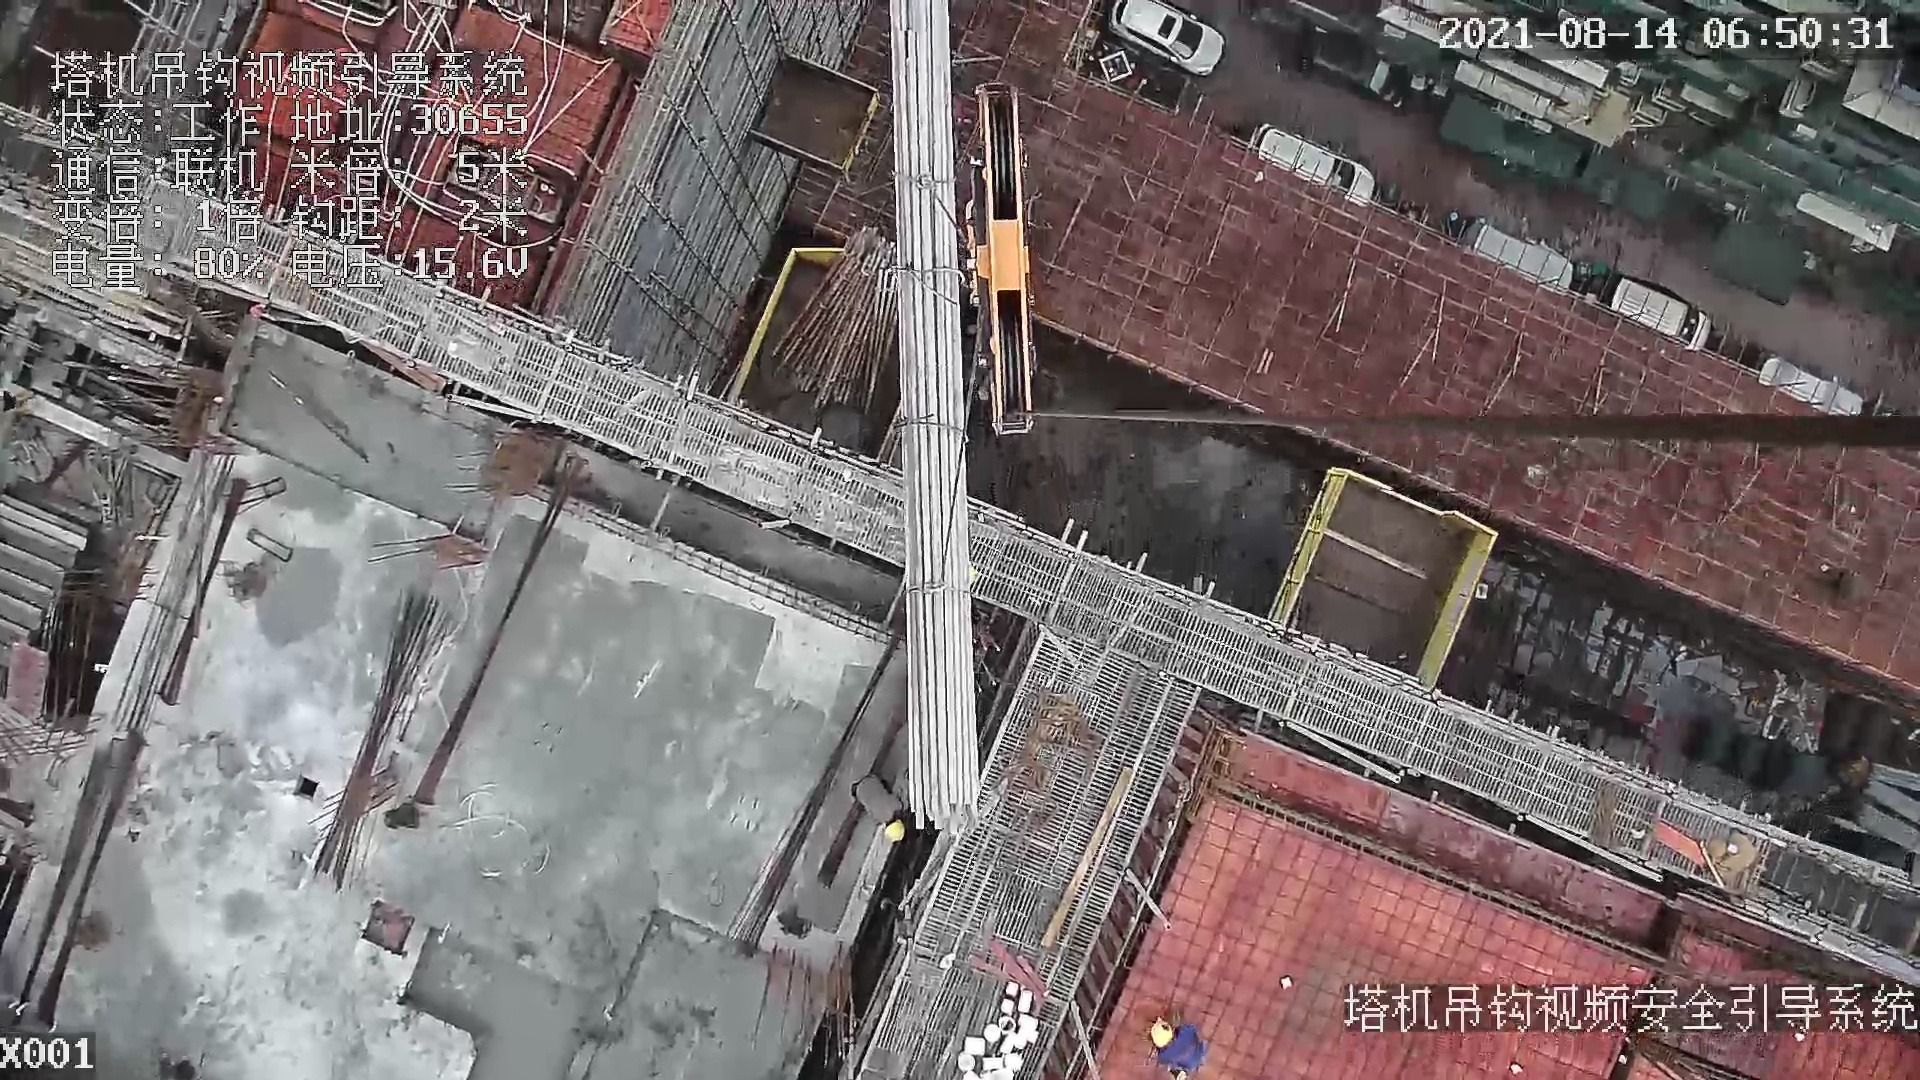helmet: (1149, 1016, 1176, 1054), (883, 819, 913, 846)
hook: (946, 74, 1047, 442)
person: (851, 766, 921, 858), (1145, 1010, 1197, 1077)
